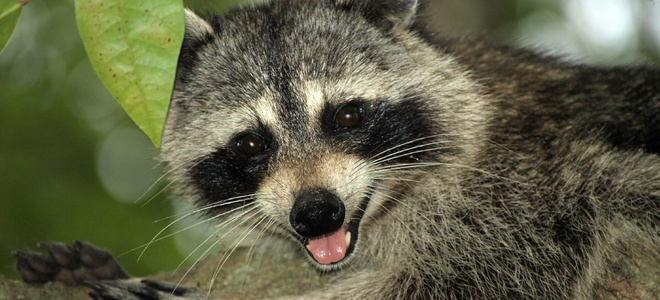raccoon: (147, 8, 654, 297)
